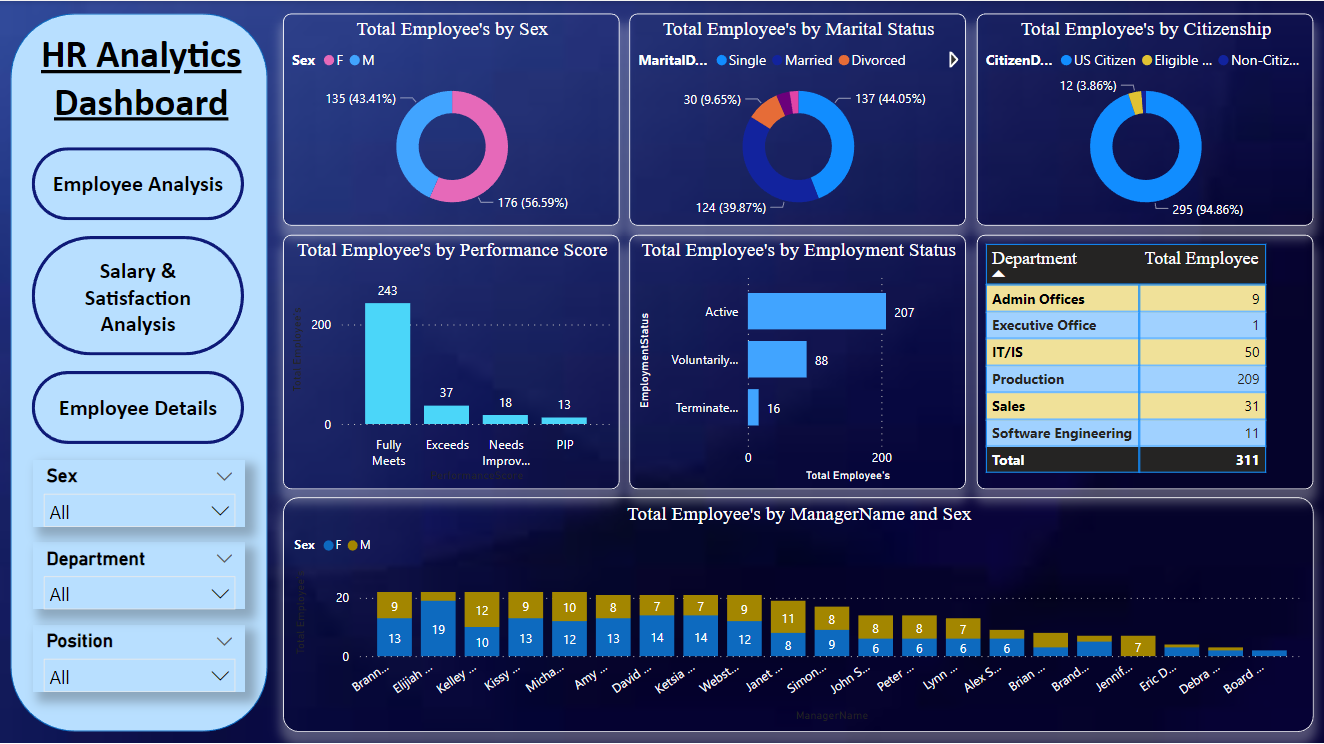

Layout of this report page (visuals, bound fields, positions):
{"tool":"powerbi","page":{"name":"Employee Analysis","canvas":[1280,720],"ordinal":0},"visuals":[{"type":"shape","box":[12.3,12.3,248.3,692.8],"z":0},{"type":"actionButton","box":[32.4,141.3,205,70],"z":2000},{"type":"actionButton","box":[32.4,226.7,205,115.2],"z":3000},{"type":"actionButton","box":[32.4,357.3,205,70],"z":4000},{"type":"slicer","fields":{"Values":["HRDataset_v14.Sex"]},"box":[33.8,442.6,205,64.5],"z":5000},{"type":"slicer","fields":{"Values":["HRDataset_v14.Department"]},"box":[33.8,522.5,205,64.5],"z":6000},{"type":"slicer","fields":{"Values":["HRDataset_v14.Position"]},"box":[33.8,602.3,205,64.5],"z":7000},{"type":"donutChart","fields":{"Y":["HRDataset_v14.Total Employee's"],"Category":["HRDataset_v14.Sex"]},"box":[274.4,12.3,325,205],"z":8000},{"type":"donutChart","title":"Total Employee''s by Marital Status","fields":{"Y":["HRDataset_v14.Total Employee's"],"Category":["HRDataset_v14.MaritalDesc"]},"box":[609.1,12.3,325.1,205],"z":9000},{"type":"donutChart","title":"Total Employee''s by Citizenship","fields":{"Y":["HRDataset_v14.Total Employee's"],"Category":["HRDataset_v14.CitizenDesc"]},"box":[943.9,12.3,325.1,205],"z":10000},{"type":"columnChart","fields":{"Y":["HRDataset_v14.Total Employee's"],"Category":["HRDataset_v14.ManagerName"],"Series":["HRDataset_v14.Sex"]},"box":[274.4,478.8,994.6,226.4],"z":11000},{"type":"barChart","title":"Total Employee''s by Employment Status","fields":{"Y":["HRDataset_v14.Total Employee's"],"Category":["HRDataset_v14.EmploymentStatus"]},"box":[609.1,225,325.1,245.6],"z":12000},{"type":"columnChart","title":"Total Employee''s by Performance Score","fields":{"Y":["HRDataset_v14.Total Employee's"],"Category":["HRDataset_v14.PerformanceScore"]},"box":[274.4,225,325.1,245.6],"z":13000},{"type":"pivotTable","fields":{"Rows":["HRDataset_v14.Department"],"Values":["HRDataset_v14.Total Employee's"]},"box":[943.9,225,325.1,245.6],"z":14000},{"type":"shape","title":"HR Analytics Dashboard","box":[27.4,28.8,220.9,86.4],"z":14001}]}

Visuals, with their boxes in screenshot pixels (x1, y1, x2, y2), scaled from the page's 1280x720 canvas onto the 1324x744 screenshot:
shape: 13 13 270 729
actionButton: 34 146 246 218
actionButton: 34 234 246 353
actionButton: 34 369 246 442
slicer - HRDataset_v14.Sex: 35 457 247 524
slicer - HRDataset_v14.Department: 35 540 247 607
slicer - HRDataset_v14.Position: 35 622 247 689
donutChart - HRDataset_v14.Total Employee's x HRDataset_v14.Sex: 284 13 620 225
"Total Employee''s by Marital Status" donutChart: 630 13 966 225
"Total Employee''s by Citizenship" donutChart: 976 13 1313 225
columnChart - HRDataset_v14.Total Employee's x HRDataset_v14.ManagerName: 284 495 1313 729
"Total Employee''s by Employment Status" barChart: 630 233 966 486
"Total Employee''s by Performance Score" columnChart: 284 233 620 486
pivotTable - HRDataset_v14.Department x HRDataset_v14.Total Employee's: 976 233 1313 486
"HR Analytics Dashboard" shape: 28 30 257 119
